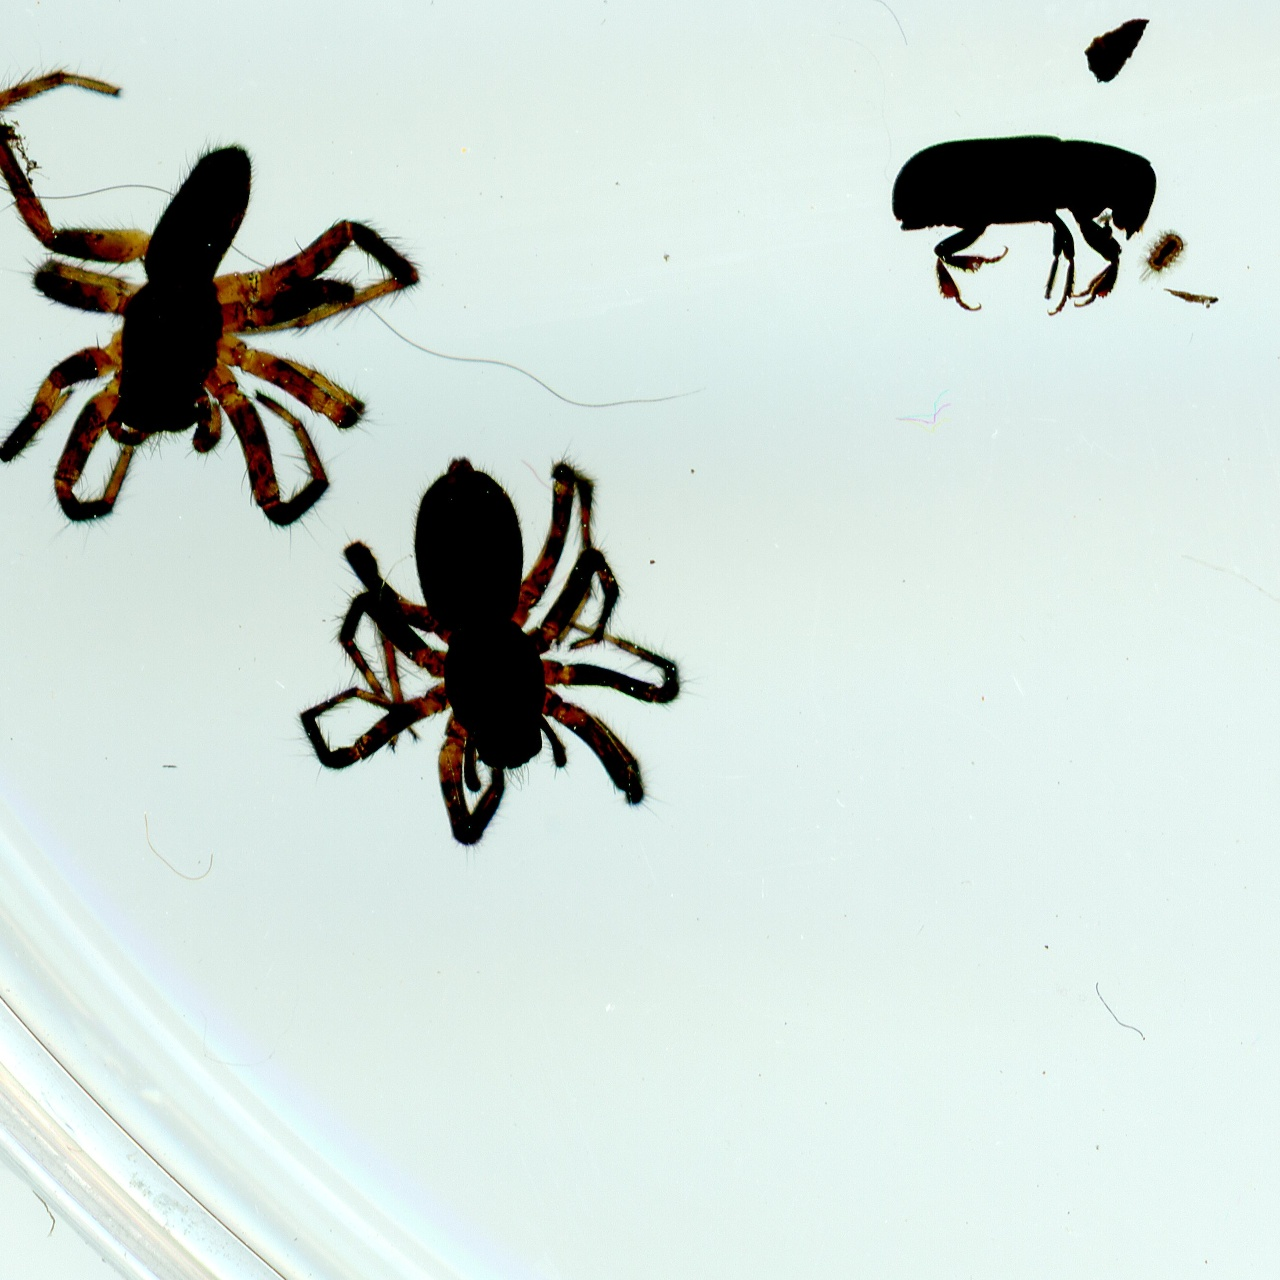arthropod: (0, 55, 415, 522), (298, 455, 692, 844), (879, 127, 1163, 312), (1141, 229, 1185, 288)
